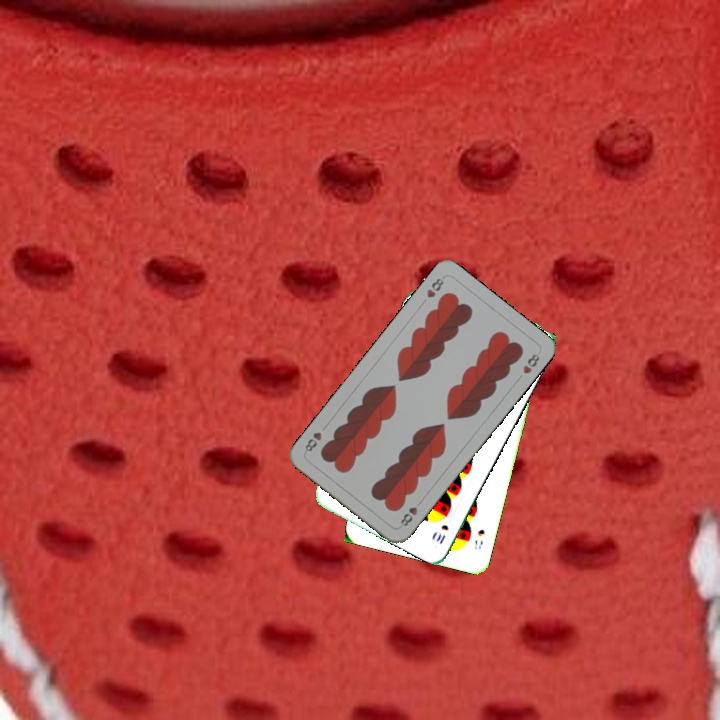H8: (422, 272, 447, 301), (396, 503, 420, 529)
S10: (432, 520, 451, 547)
S8: (470, 525, 487, 552)
